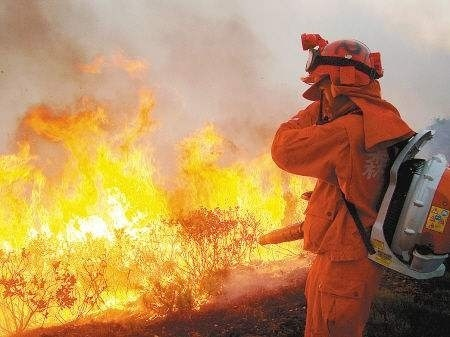fire: (0, 58, 338, 310)
